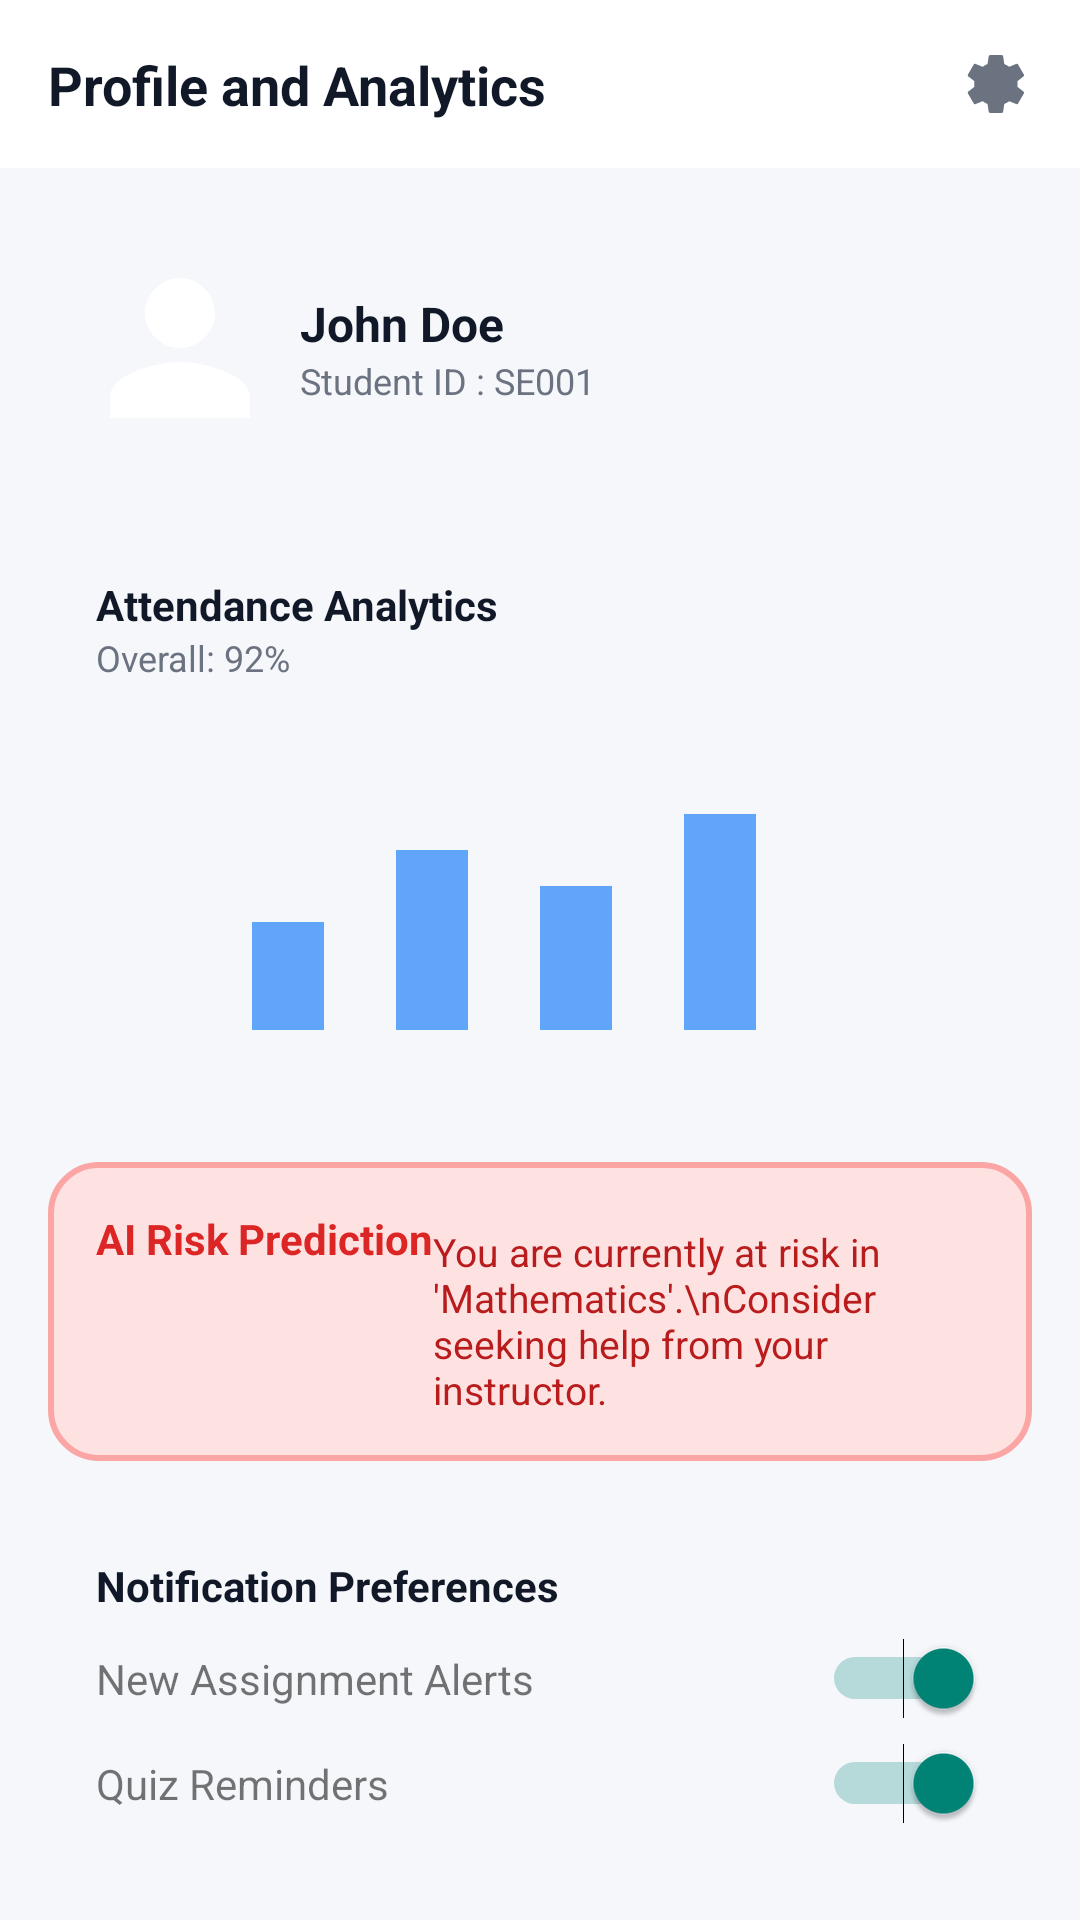

Screen size 1080 x 1920. Icon name, then its center in pixels as (x=x, y=y):
settings: (x=995, y=84)
